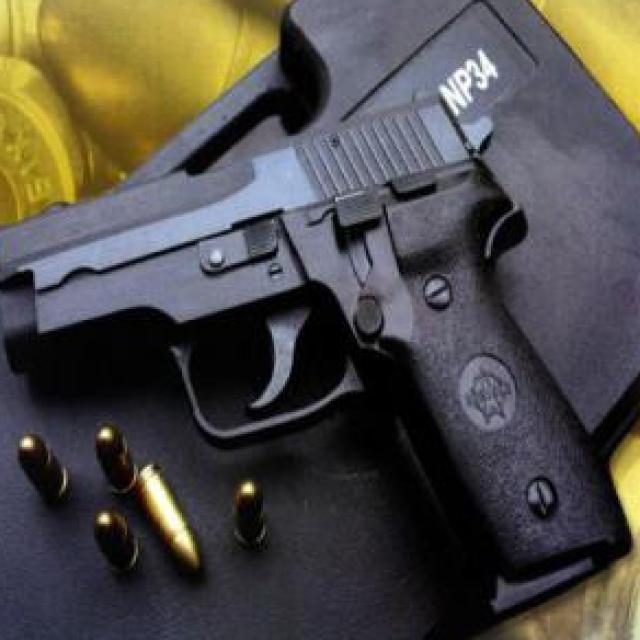pistol: (0, 85, 629, 605)
